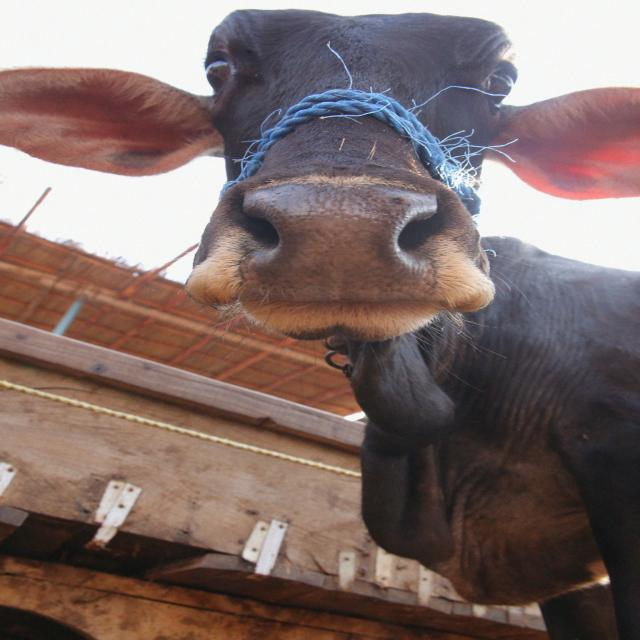muzzles: (218, 172, 453, 310)
